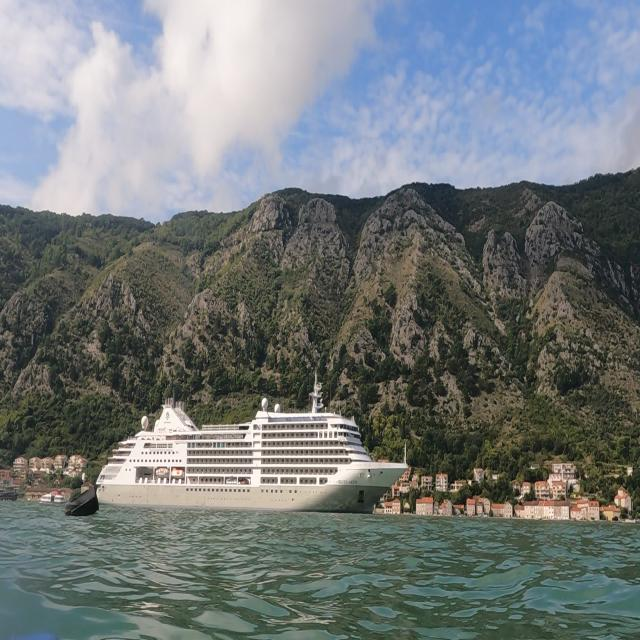boat: (93, 368, 410, 516)
buoy: (58, 482, 104, 527)
